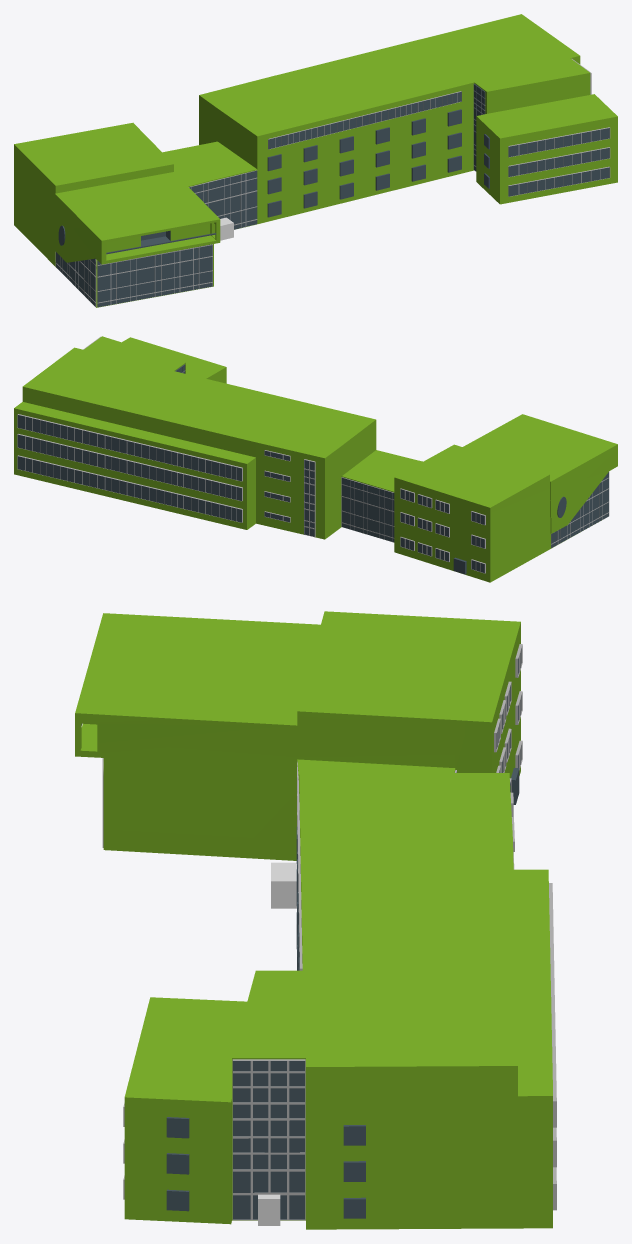
3 renders of one model, top to bottom at view 1: azimuth 30°, elevation 25°; view 2: azimuth 150°, elevation 25°; view 3: azimuth 270°, elevation 25°, orthographic. The views are drawn at different scales.
Parts seen in each view (by area): view 1: A20; view 2: A20; view 3: A20, Entrance.
Boxes of the visible parts, bbox=[...] form: A20: bbox=[14, 14, 617, 307]; A20: bbox=[14, 336, 617, 582]; A20: bbox=[75, 611, 556, 1229]; Entrance: bbox=[271, 862, 296, 908].
Size of the model in its own units: 76.33 by 12 by 32.23.
